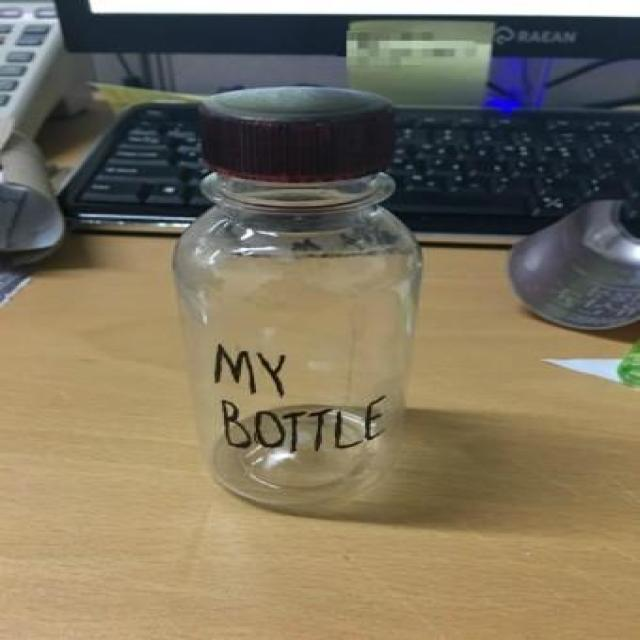bottle: (175, 88, 424, 510)
